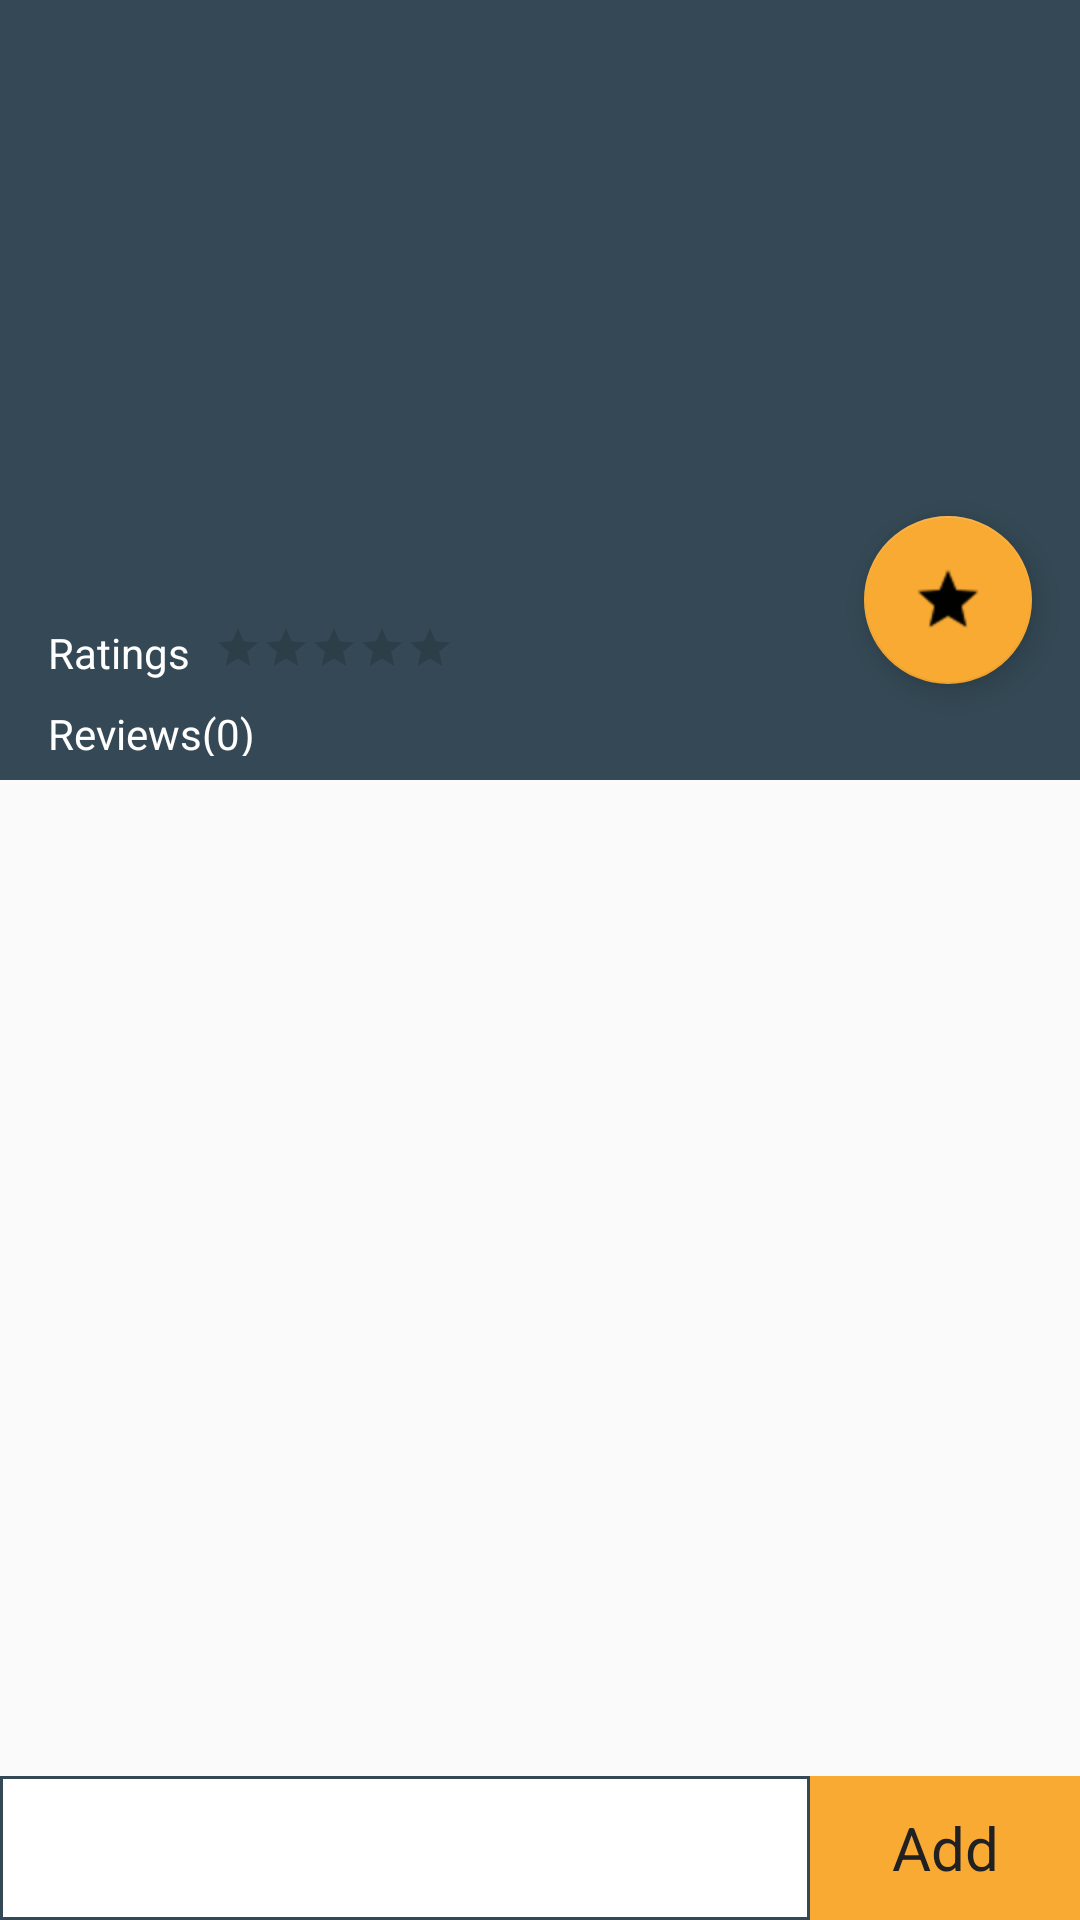

Icon bounding boxes for this 1080px×1920px phone screenshot, format (x1, y1, x2, y2):
grade: (864, 516, 1032, 684)
